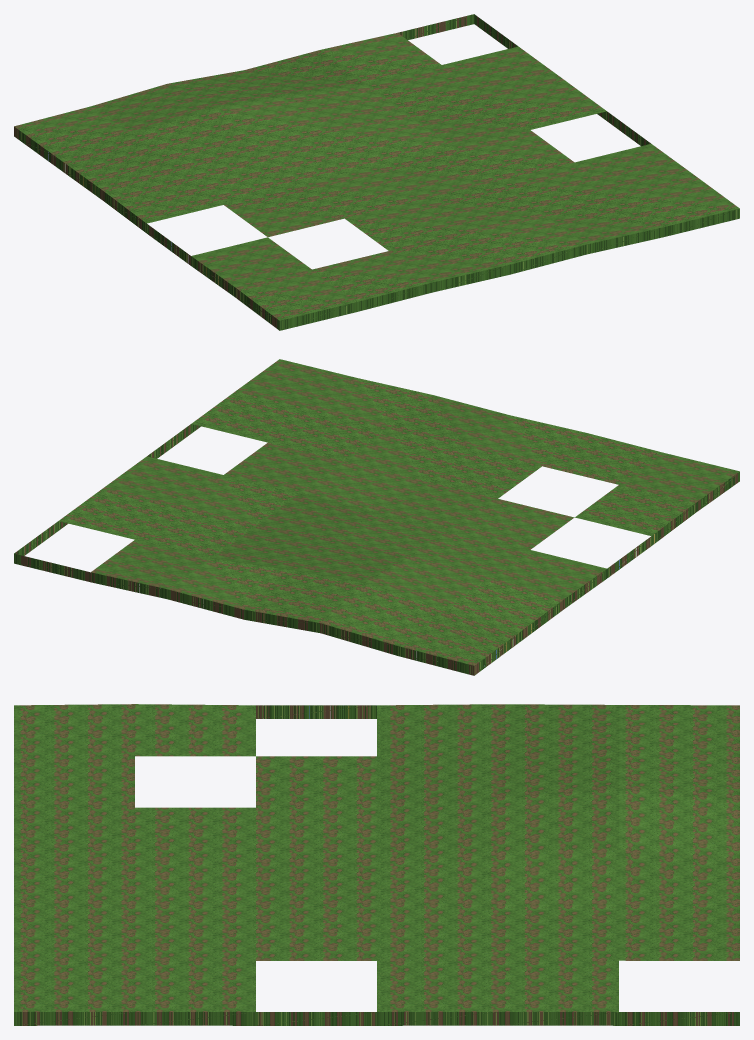
Rendered from rv_terrain_33_lod3.gltf.
The picture shows the model from 3 angles, top to bottom: view 1: azimuth 30°, elevation 25°; view 2: azimuth 150°, elevation 25°; view 3: azimuth 270°, elevation 25°; orthographic projection. The views are drawn at different scales.
Parts seen in each view (by area): view 1: RV_Terrain_33_lod3; view 2: RV_Terrain_33_lod3; view 3: RV_Terrain_33_lod3.
Boxes of the visible parts, x1,y1,x2,y2 form: RV_Terrain_33_lod3: (14,14,739,330); RV_Terrain_33_lod3: (14,359,739,675); RV_Terrain_33_lod3: (14,704,739,1025).
Size of the model in its own units: 72 by 3.43 by 72.
2 materials, 1 textured.
